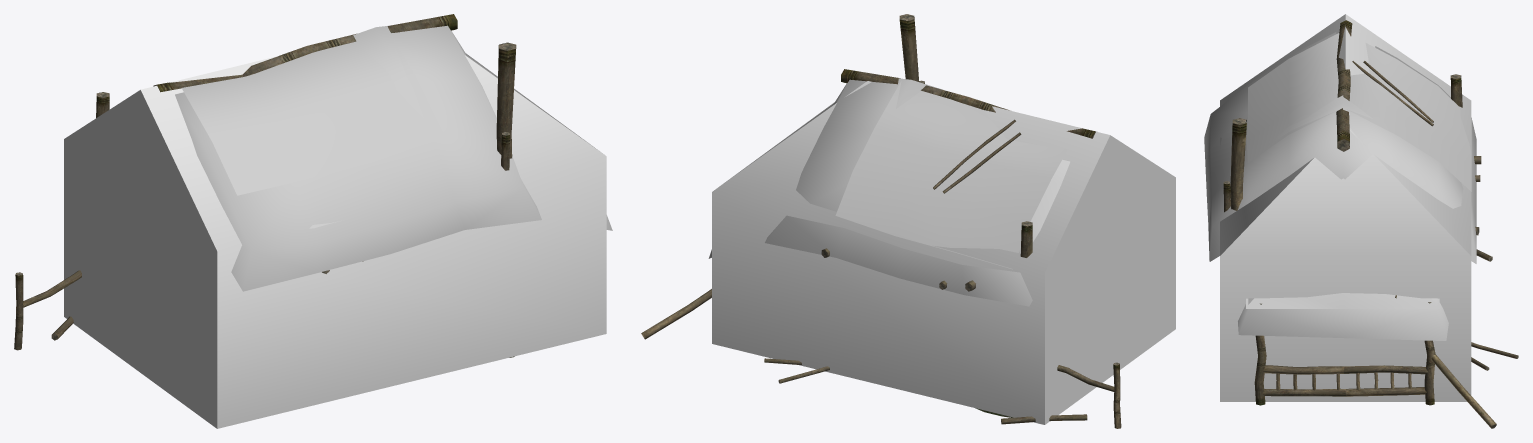
The model's file is YHJ_caopeng.FBX.
The picture shows the model from 3 angles, left to right: view 1: azimuth 30°, elevation 25°; view 2: azimuth 150°, elevation 25°; view 3: azimuth 270°, elevation 25°; orthographic projection. The views are drawn at different scales.
Visible parts, largest first — view 1: YHJ_caopeng-col, YHJ_caopeng_b, YHJ_caopeng_a; view 2: YHJ_caopeng-col, YHJ_caopeng_b, YHJ_caopeng_a; view 3: YHJ_caopeng-col, YHJ_caopeng_b, YHJ_caopeng_a.
Part boxes in pixels (x1=…): YHJ_caopeng-col: x1=64, y1=53, x2=606, y2=428; YHJ_caopeng_b: x1=175, y1=25, x2=612, y2=291; YHJ_caopeng_a: x1=14, y1=14, x2=516, y2=357; YHJ_caopeng-col: x1=712, y1=81, x2=1175, y2=424; YHJ_caopeng_b: x1=708, y1=78, x2=1069, y2=306; YHJ_caopeng_a: x1=641, y1=14, x2=1121, y2=428; YHJ_caopeng-col: x1=1220, y1=14, x2=1471, y2=401; YHJ_caopeng_b: x1=1204, y1=32, x2=1476, y2=340; YHJ_caopeng_a: x1=1223, y1=20, x2=1518, y2=428.
Bounding box in the file's own units: 13.56 × 7.44 × 8.53.
